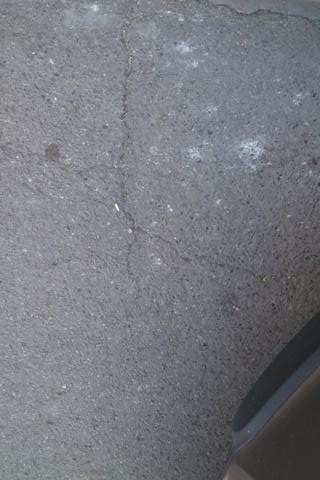A: (107, 3, 320, 291)
